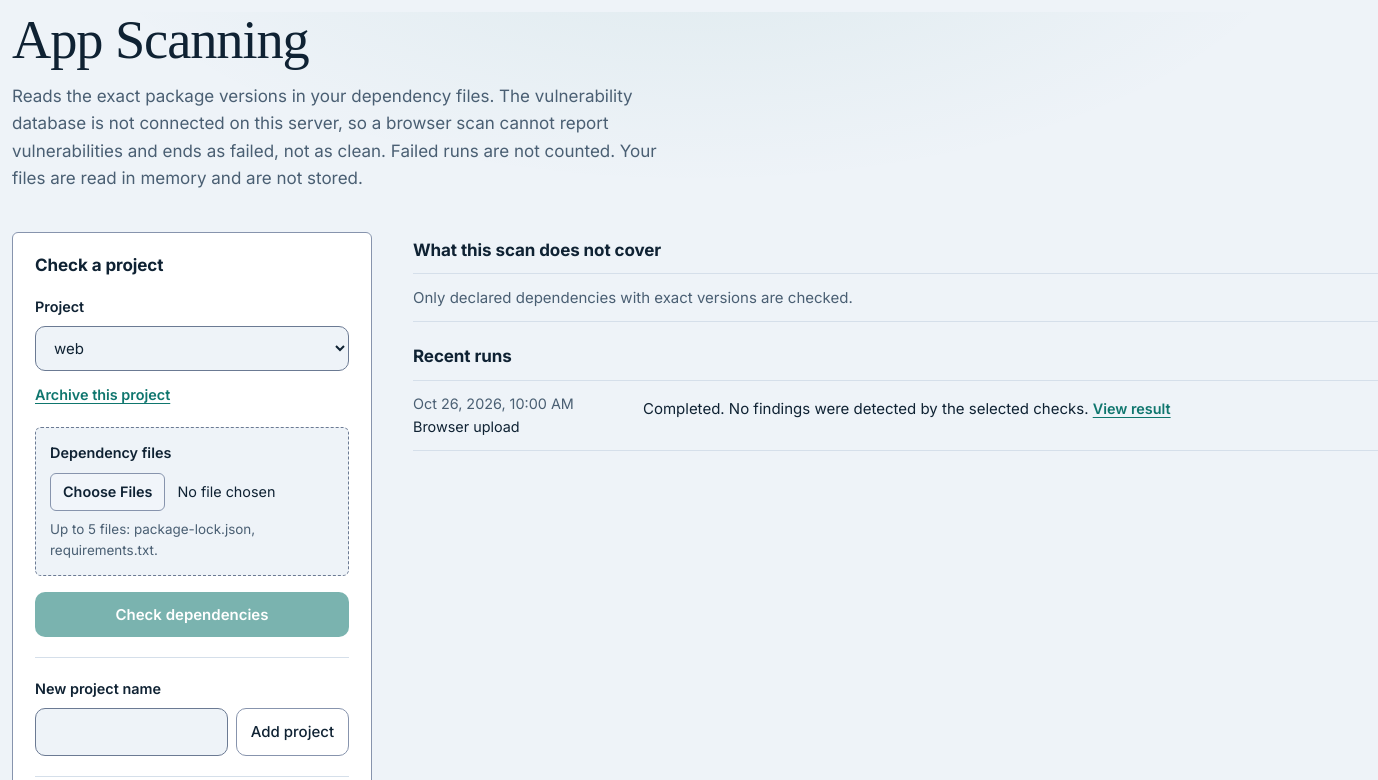
App Scanning page › opens an earlier run from the runs list
Click the button "View result" at (1132, 409), box [1093,393,1171,425]
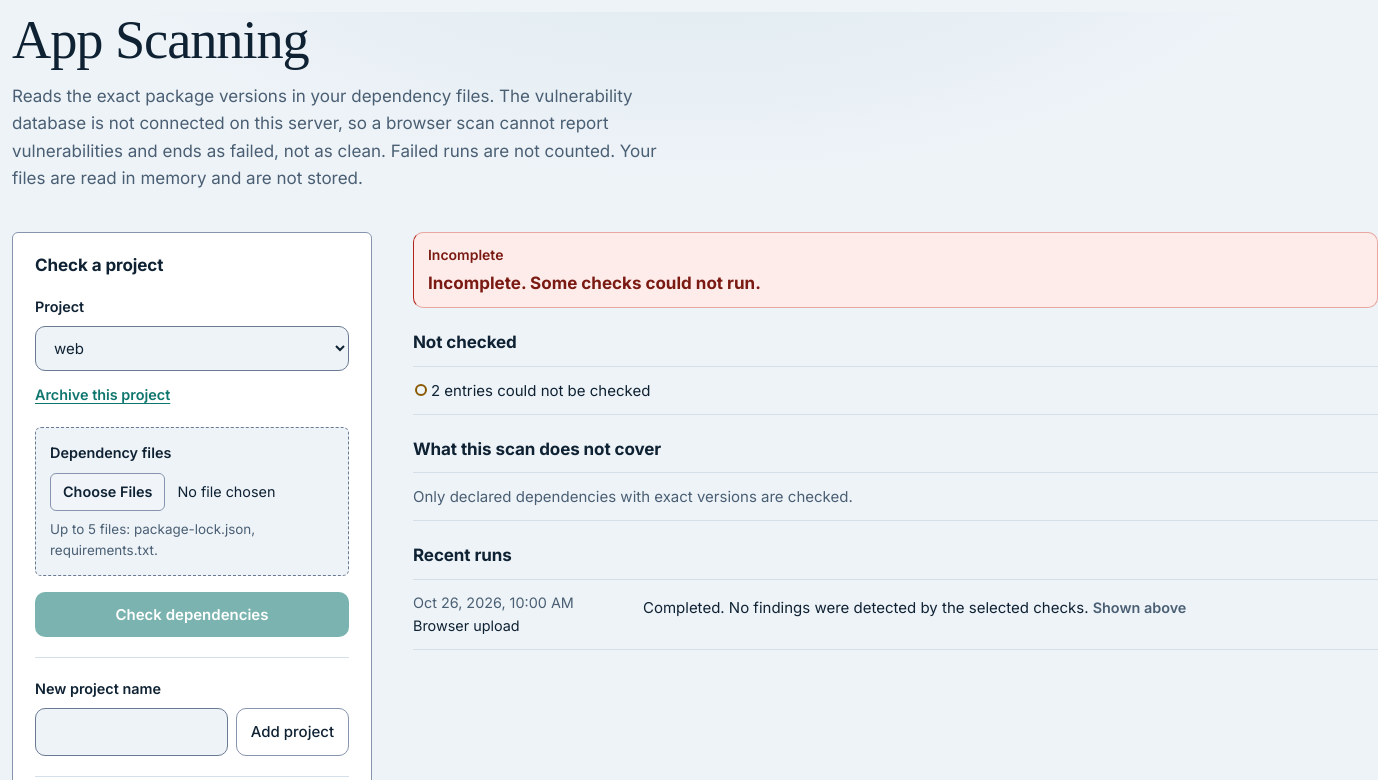
Expected: the list item "2 entries could not be checked" is shown, [413,367,1377,415]
Expected: the button "Shown above" is shown, [1093,592,1186,624]
